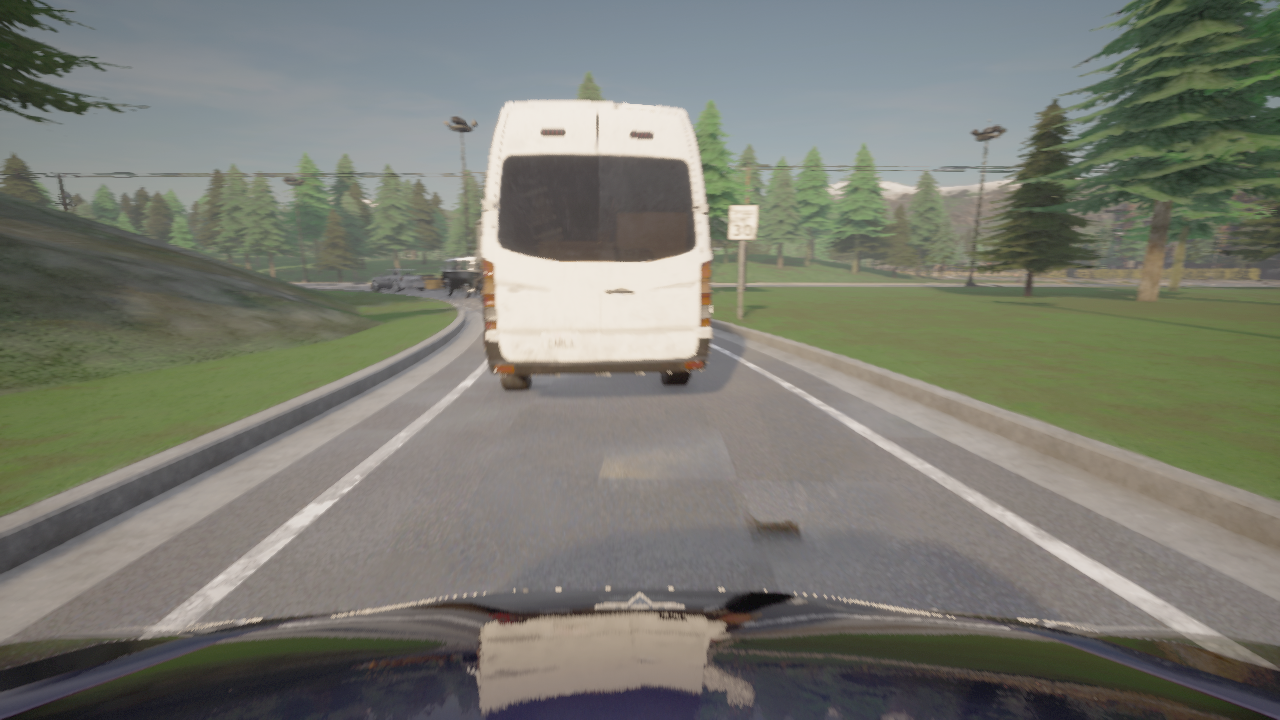cyclist: (0, 588, 1279, 719), (482, 102, 711, 390), (439, 256, 476, 298), (466, 218, 483, 303), (371, 269, 425, 292)
